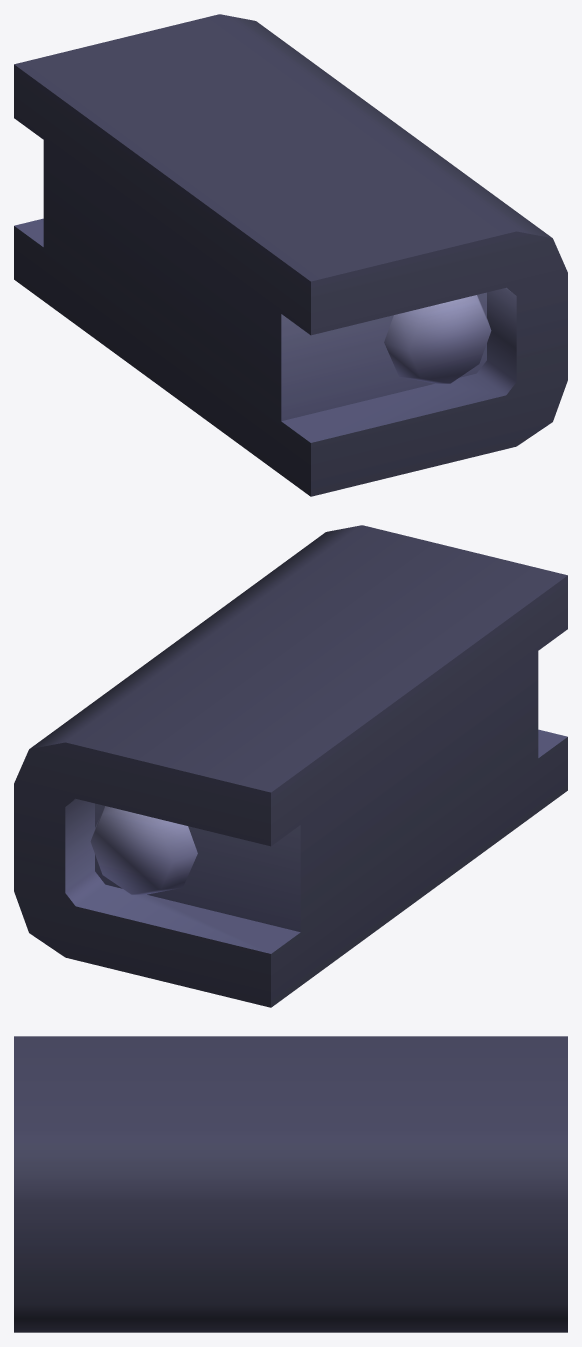
The model's file is kenney-factory-conveyor-long-part-end.glb.
3 renders of one model, top to bottom at view 1: azimuth 30°, elevation 25°; view 2: azimuth 150°, elevation 25°; view 3: azimuth 270°, elevation 25°, orthographic. The views are drawn at different scales.
Visible parts, largest first — view 1: conveyor-long-part-end; view 2: conveyor-long-part-end; view 3: conveyor-long-part-end.
Boxes of the visible parts, x1=… form: conveyor-long-part-end: x1=14, y1=14, x2=567, y2=496; conveyor-long-part-end: x1=14, y1=525, x2=567, y2=1007; conveyor-long-part-end: x1=14, y1=1036, x2=567, y2=1332.
Size of the model in its own units: 0.5001 by 0.3999 by 1.
Materials: 1 (1 with a texture image).
